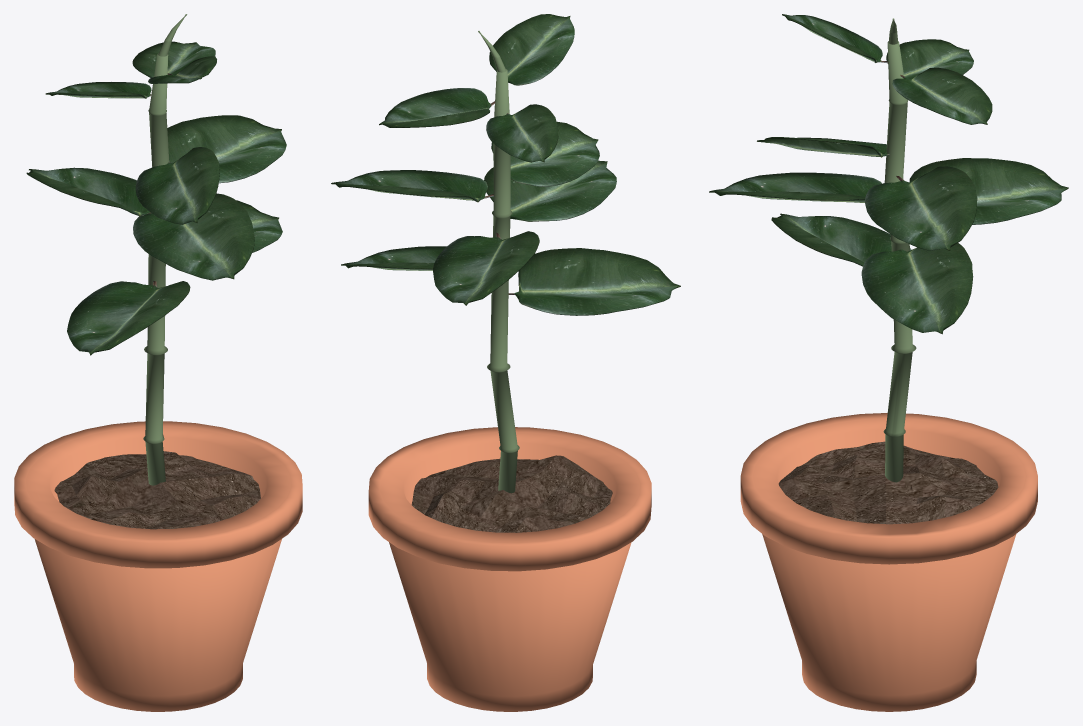
Rendered from Jade Plant.fbx.
3 renders of one model, left to right at view 1: azimuth 30°, elevation 25°; view 2: azimuth 150°, elevation 25°; view 3: azimuth 270°, elevation 25°, orthographic. The views are drawn at different scales.
Visible parts, largest first — view 1: Plane; view 2: Plane; view 3: Plane.
Part boxes in pixels (x1,y1,x2,y2): Plane: [14, 14, 302, 711]; Plane: [331, 14, 680, 711]; Plane: [709, 14, 1068, 711].
Size of the model in its own units: 61.73 by 139 by 67.23.
12 materials, 10 textured.
